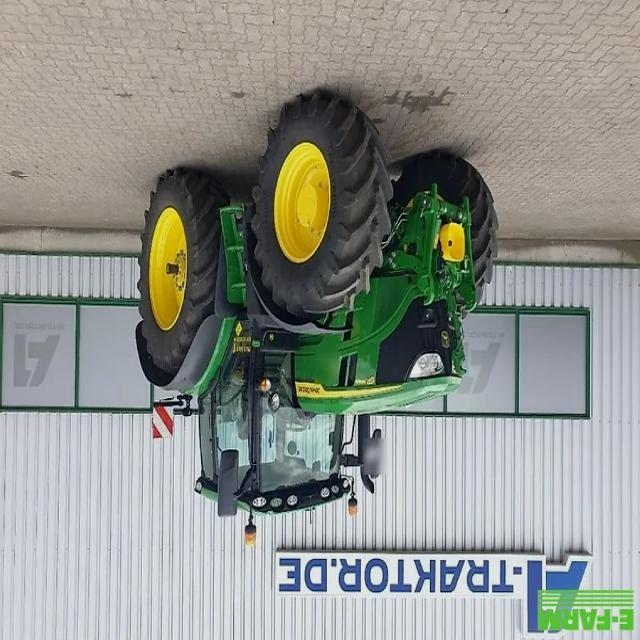Tratores - v5 YOLO V8L 2024-11-13: (127, 82, 500, 551)
